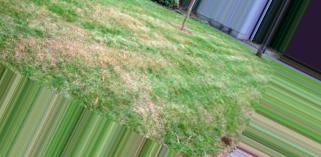patch: (53, 31, 124, 52), (119, 82, 164, 108), (81, 59, 154, 73), (30, 11, 96, 26), (137, 27, 177, 46), (180, 70, 216, 88), (15, 29, 47, 49), (105, 12, 136, 25), (184, 111, 213, 123)
